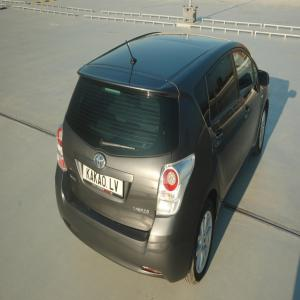Vehicle-registration-plate: (83, 161, 133, 207)
